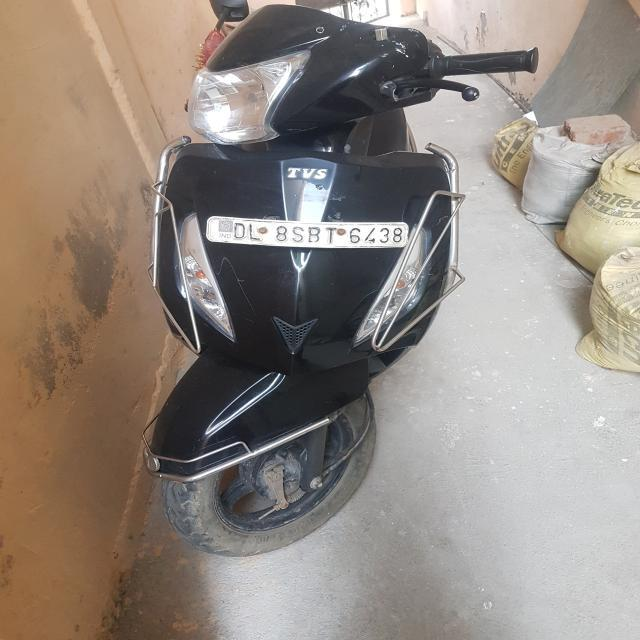plate: (204, 215, 410, 249)
